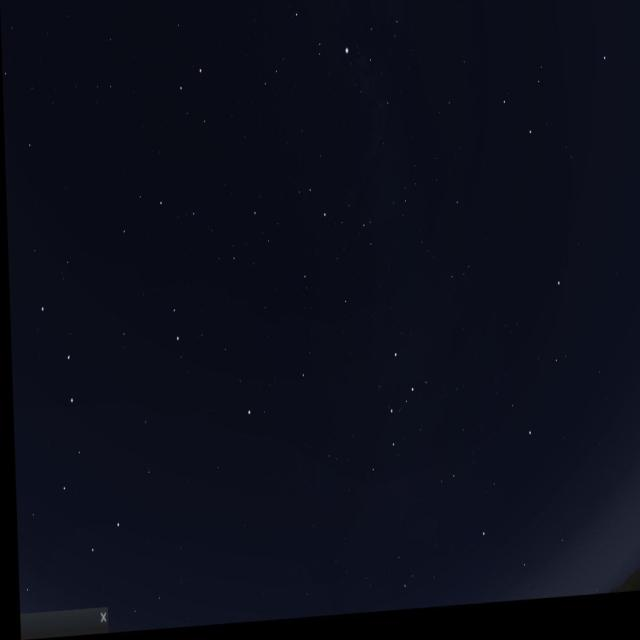cassiopeia: (347, 323, 422, 483)
ursa_major: (27, 286, 120, 564)
